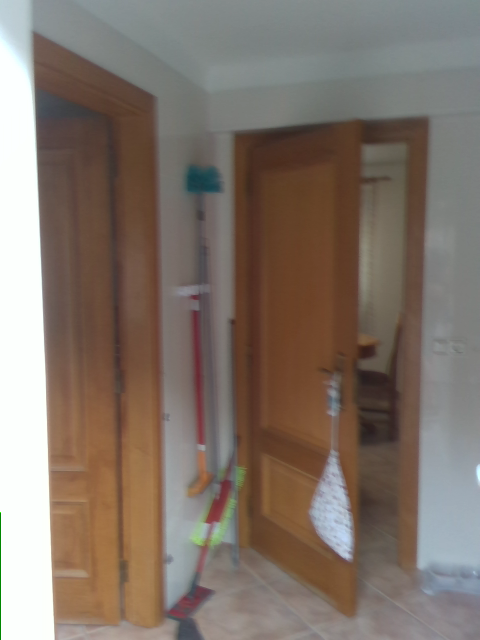semi: (234, 114, 430, 623)
